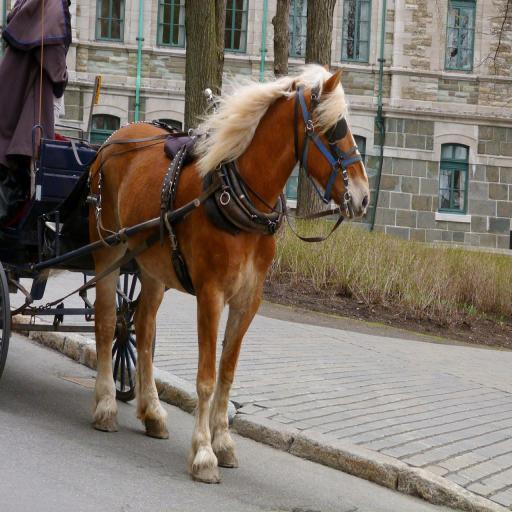horse: (90, 61, 370, 487)
